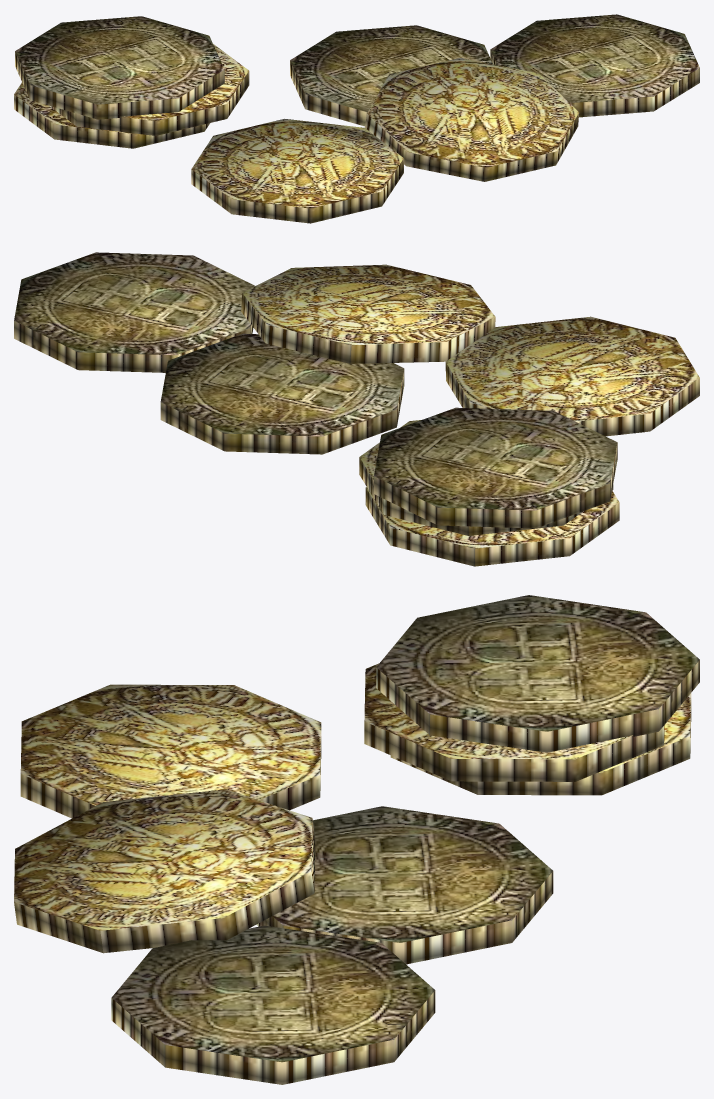
File: KM_VOB_MERCHANT_COINS_01.glb
3 views of the same model, one above another, from view 1: azimuth 30°, elevation 25°; view 2: azimuth 150°, elevation 25°; view 3: azimuth 270°, elevation 25° (orthographic). The views are drawn at different scales.
Parts seen in each view (by area): view 1: Mesh; view 2: Mesh; view 3: Mesh.
Boxes of the visible parts, x1,y1,x2,y2 form: Mesh: (14,14,699,223); Mesh: (14,252,699,566); Mesh: (14,595,699,1084).
Bounding box in the file's own units: 0.1345 × 0.00998 × 0.0921.
1 material, 1 textured.
